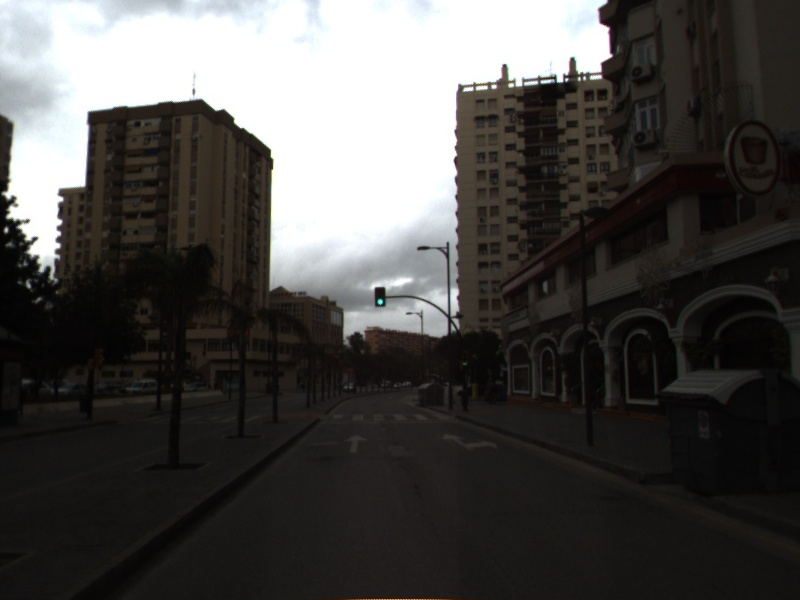STRAIGHT: (341, 432, 371, 455)
STRAIGHT_RIGHT: (440, 430, 500, 453)
